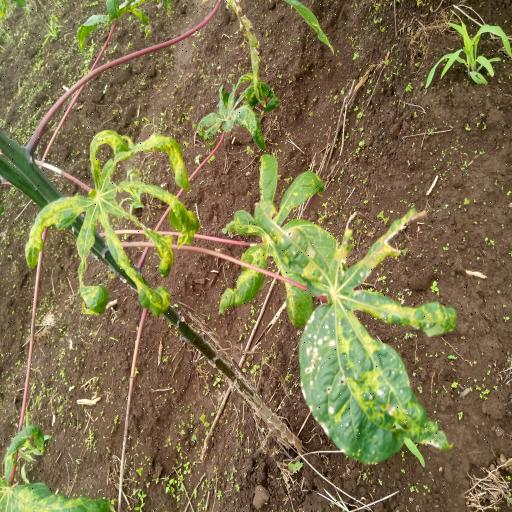Cassava_Mosaic: (24, 130, 200, 312), (312, 238, 448, 460), (227, 153, 340, 316)
